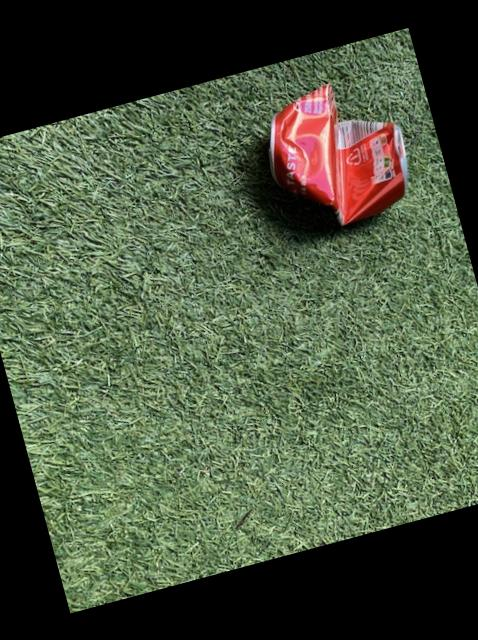metal: (270, 84, 407, 223)
